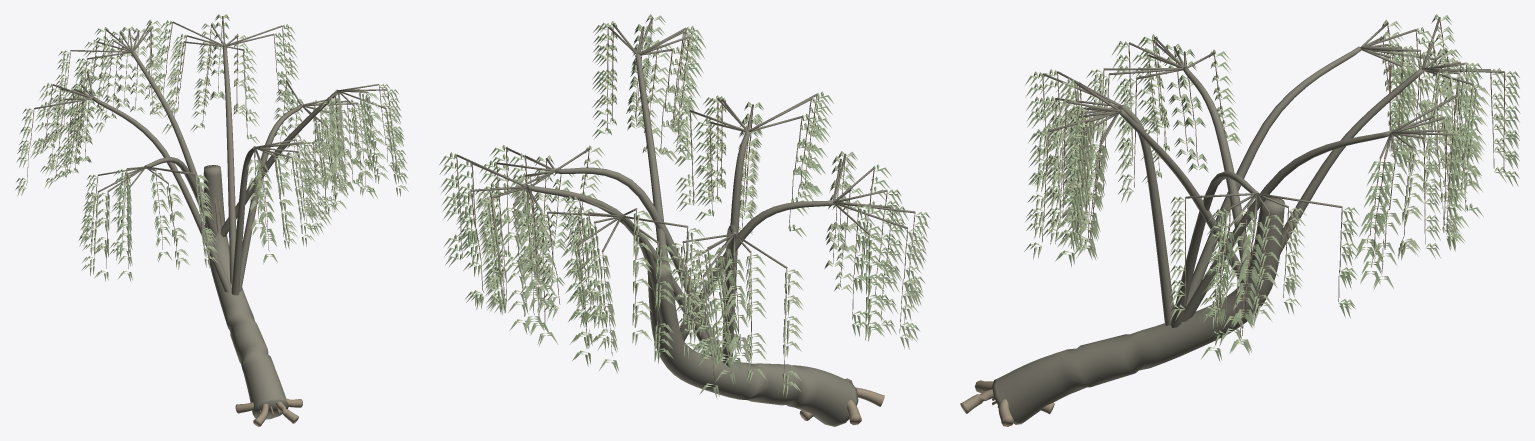
The model's file is grove-willow-7.glb.
3 renders of one model, left to right at view 1: azimuth 30°, elevation 25°; view 2: azimuth 150°, elevation 25°; view 3: azimuth 270°, elevation 25°, orthographic. The views are drawn at different scales.
Parts seen in each view (by area): view 1: grove-willow-7; view 2: grove-willow-7; view 3: grove-willow-7.
Part boxes in pixels (x1,y1,x2,y2): grove-willow-7: (15, 14, 408, 426); grove-willow-7: (439, 14, 930, 426); grove-willow-7: (960, 14, 1520, 426).
Bounding box in the file's own units: 7.84 × 7.12 × 9.03.
